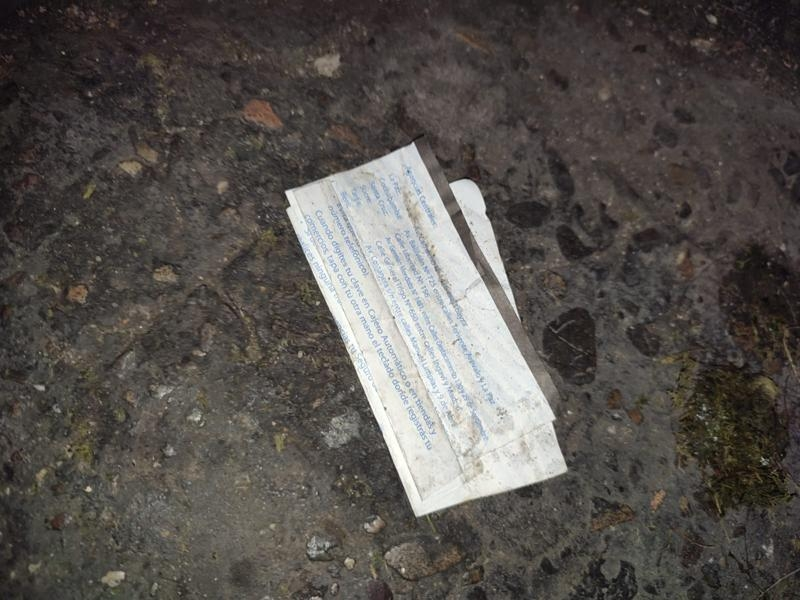papel: (283, 143, 571, 519)
